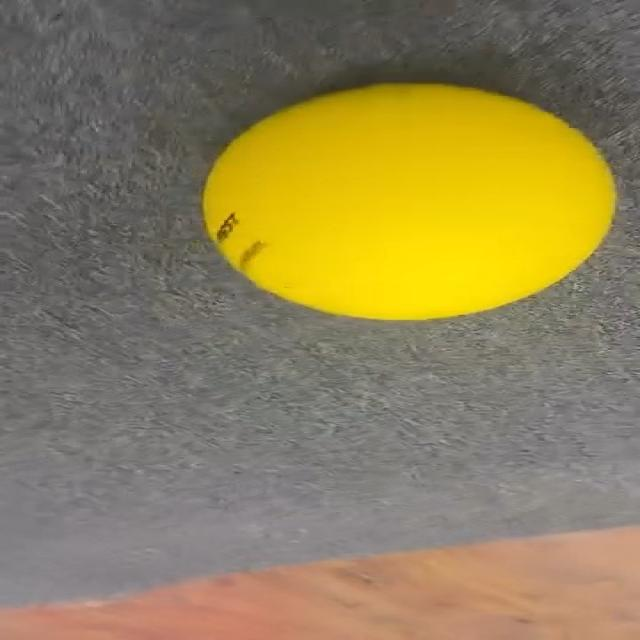Fuels: (204, 78, 614, 322)
